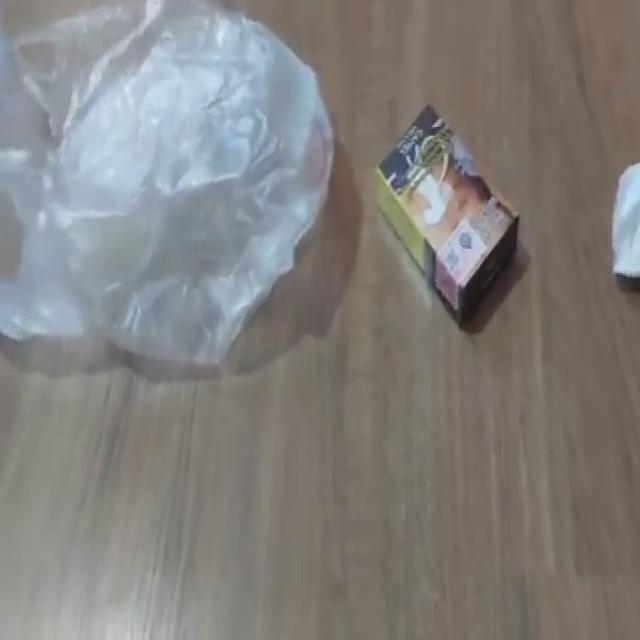Anorganik: (1, 2, 339, 372)
Organik: (371, 98, 520, 332), (610, 155, 640, 280)
